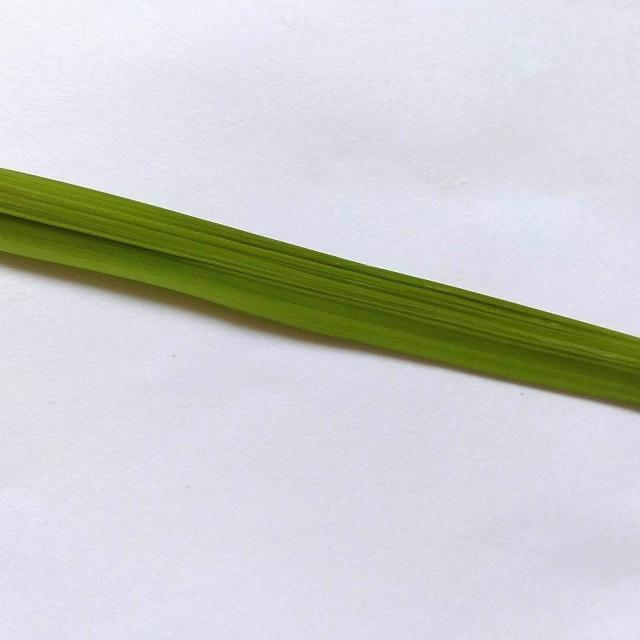healthy: (0, 136, 640, 449)
